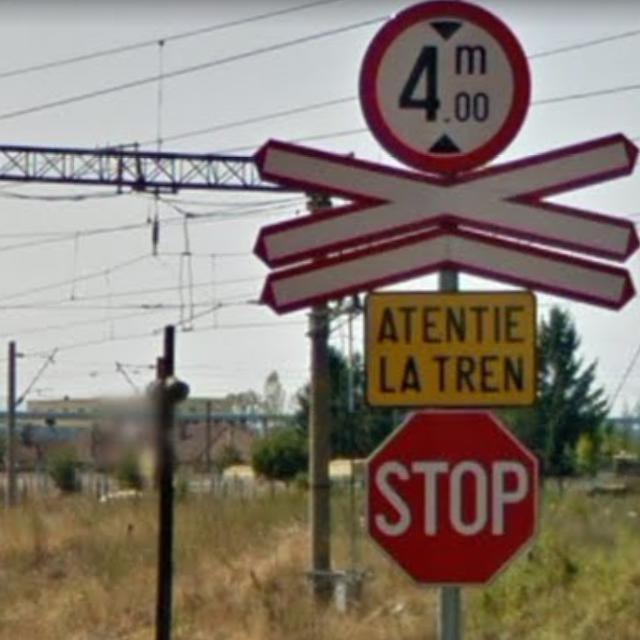prio_stop: (362, 410, 536, 587)
